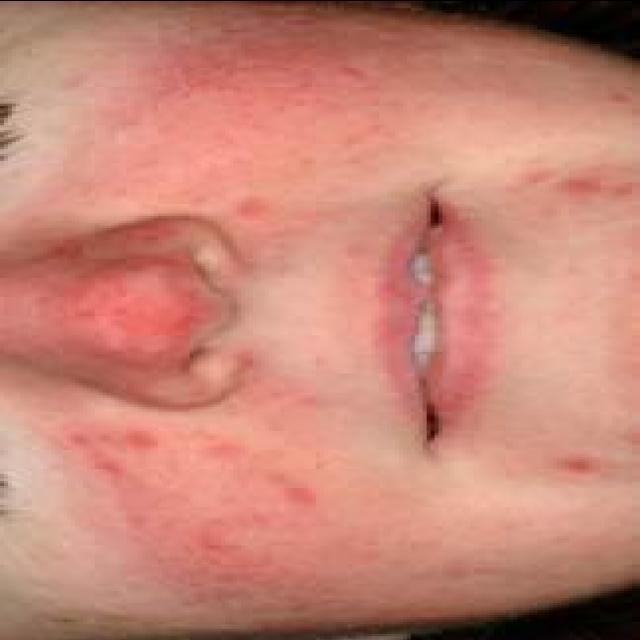Rosacea: (15, 258, 262, 404)
